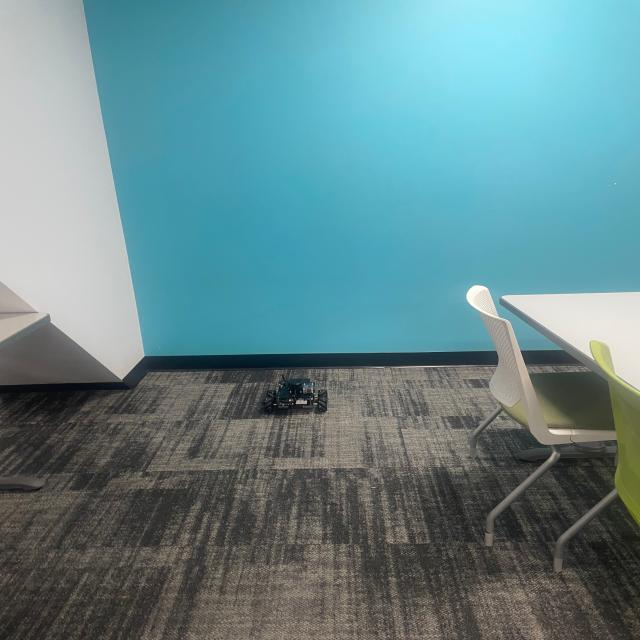ArduinoCar: (260, 374, 326, 414)
